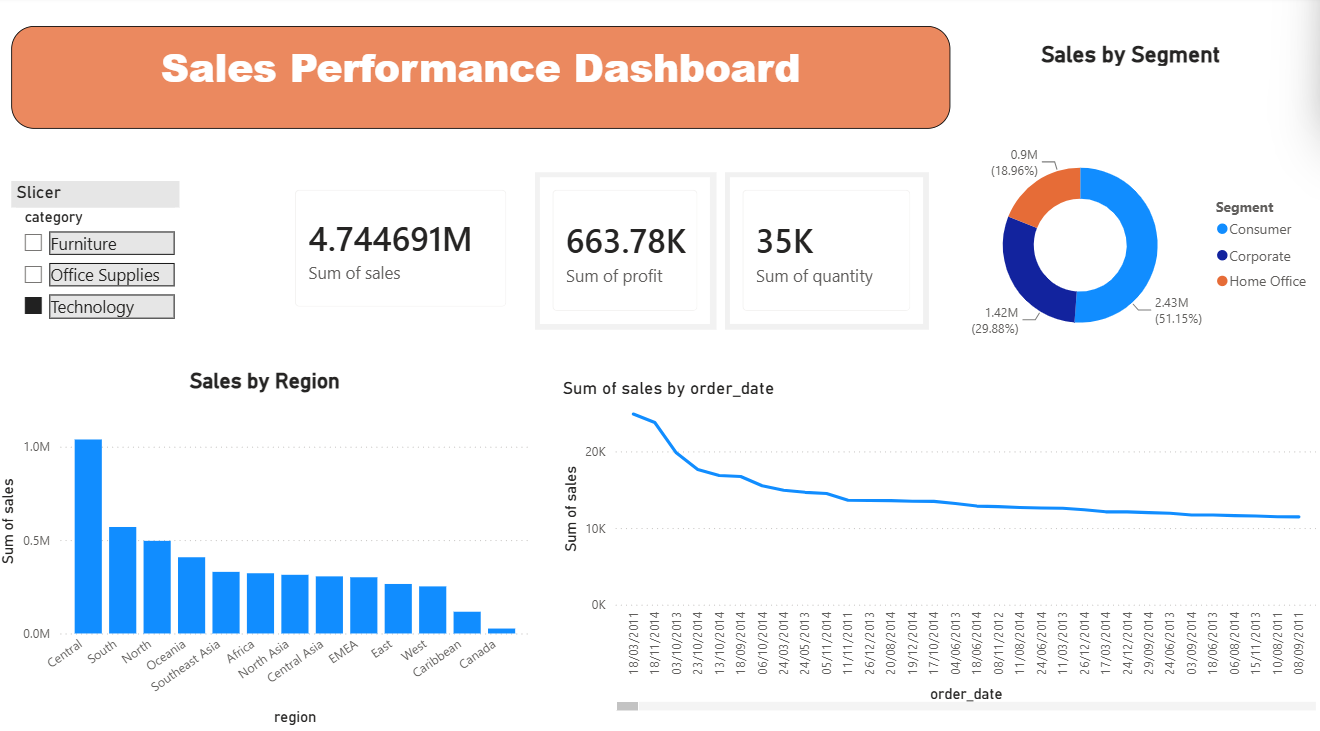

Layout of this report page (visuals, bound fields, positions):
{"tool":"powerbi","page":{"name":"Page 1","canvas":[1280,720],"ordinal":0},"visuals":[{"type":"cardVisual","fields":{"Data":["Sum(cleaned_sales_data.profit)"]},"box":[520.9,170,174.9,151.6],"z":1000},{"type":"cardVisual","fields":{"Data":["Sum(cleaned_sales_data.quantity)"]},"box":[704.4,170,196.9,151.6],"z":2000},{"type":"clusteredColumnChart","title":"Sales by Region","fields":{"Category":["cleaned_sales_data.region"],"Y":["Sum(cleaned_sales_data.sales)"]},"box":[0,359.5,520.9,349.7],"z":3000},{"type":"lineChart","fields":{"Category":["cleaned_sales_data.order_date"],"Y":["Sum(cleaned_sales_data.sales)"]},"box":[542.9,368.1,737.4,326.5],"z":4000},{"type":"slicer","title":"Slicer","fields":{"Values":["cleaned_sales_data.category"]},"box":[15.9,178.5,162.6,143.1],"z":5000},{"type":"donutChart","title":"Sales by Segment","fields":{"Y":["Sum(cleaned_sales_data.sales)"],"Category":["cleaned_sales_data.segment"]},"box":[912.2,44,368.1,368.1],"z":6000},{"type":"textbox","box":[15.9,29.3,906.1,99],"z":7000},{"type":"cardVisual","fields":{"Data":["Sum(cleaned_sales_data.sales)"]},"box":[272.7,170,238.5,148],"z":7001}]}

Visuals, with their boxes in screenshot pixels (x1, y1, x2, y2), scaled from the page's 1280x720 canvas onto the 1320x731 screenshot:
cardVisual - Sum(cleaned_sales_data.profit): [x1=537, y1=173, x2=718, y2=327]
cardVisual - Sum(cleaned_sales_data.quantity): [x1=726, y1=173, x2=929, y2=327]
"Sales by Region" clusteredColumnChart: [x1=0, y1=365, x2=537, y2=720]
lineChart - cleaned_sales_data.order_date x Sum(cleaned_sales_data.sales): [x1=560, y1=374, x2=1319, y2=705]
"Slicer" slicer: [x1=16, y1=181, x2=184, y2=327]
"Sales by Segment" donutChart: [x1=941, y1=45, x2=1319, y2=418]
textbox: [x1=16, y1=30, x2=951, y2=130]
cardVisual - Sum(cleaned_sales_data.sales): [x1=281, y1=173, x2=527, y2=323]
